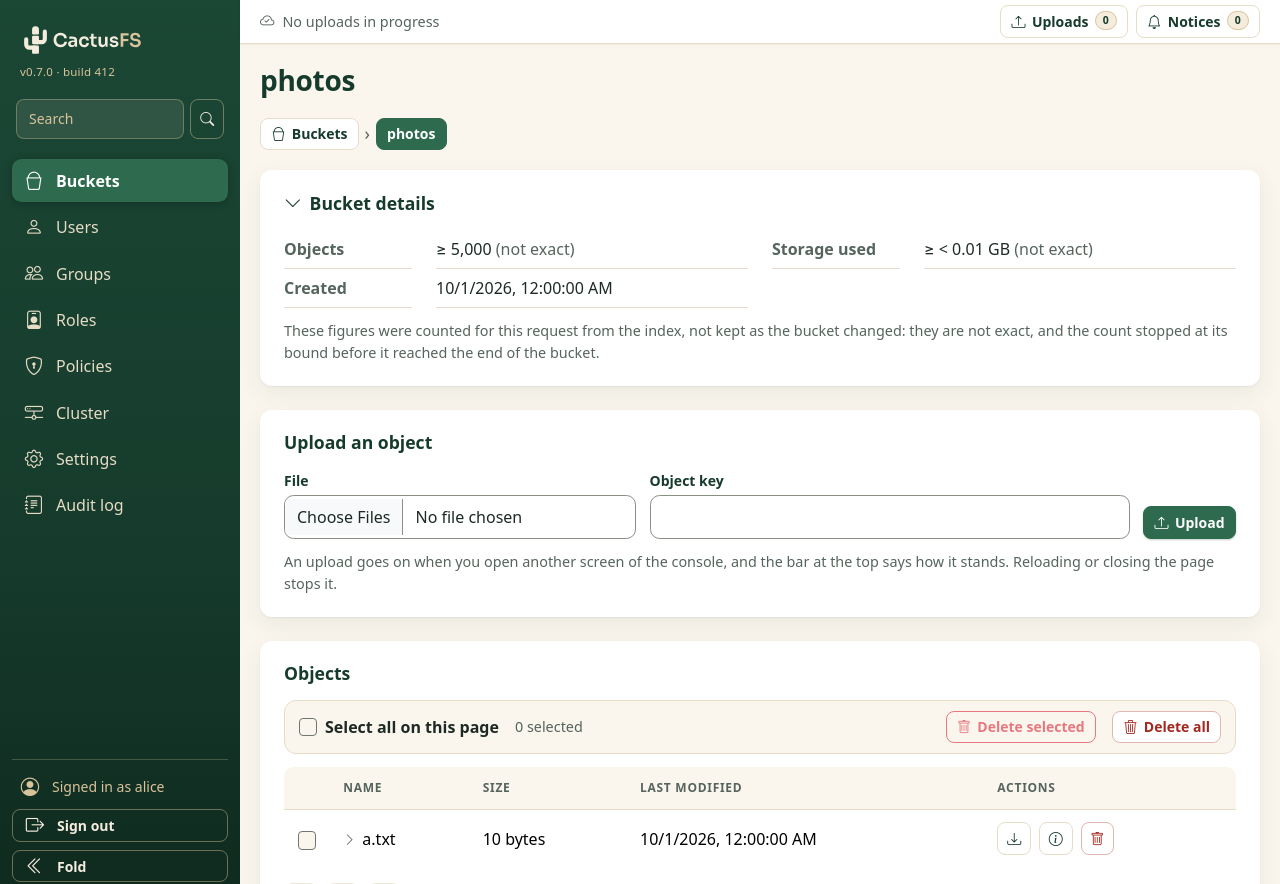
Test case: "Delete all" › says what will happen, in words that cannot be mistaken, and asks for the password and nothing else
The width and height of the screenshot is (1280, 884).
Expected: the heading "photos" is shown, [260,61,355,99]
Step 1. Click the button "Delete all" → (1167, 727), box [1112,711,1221,743]
(page scrolled)
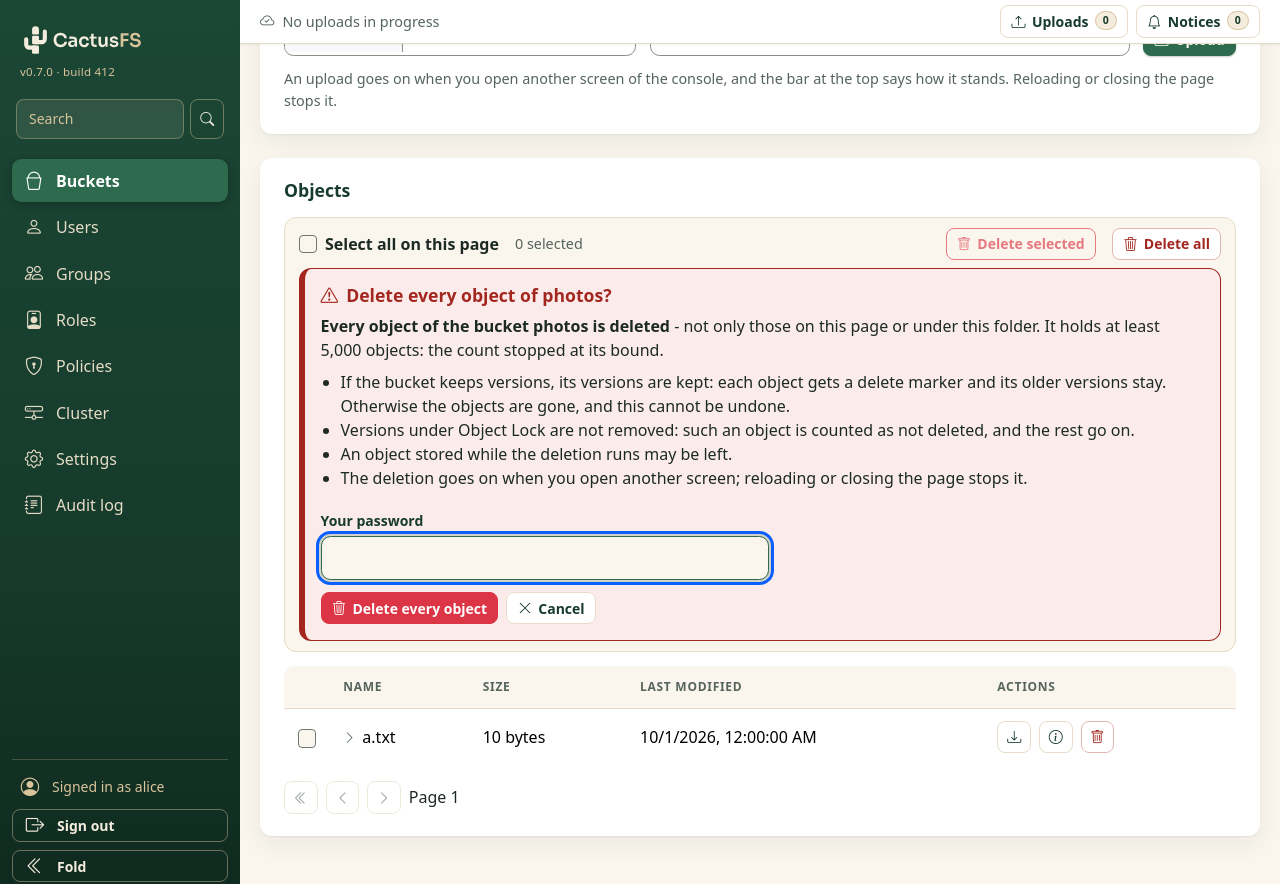
Now the dialog "Delete every object of " shows "Every object of the bucket photos is deleted", box [299,268,1221,641]
Now the dialog "Delete every object of " shows "not only those on this page or under this folder", box [670,315,1044,337]
Now the dialog "Delete every object of " shows "It holds at least 5,000 objects", box [321,315,1160,361]
Step 2. Click the button "Cancel" → (551, 608), box [506,592,596,624]
(page scrolled)
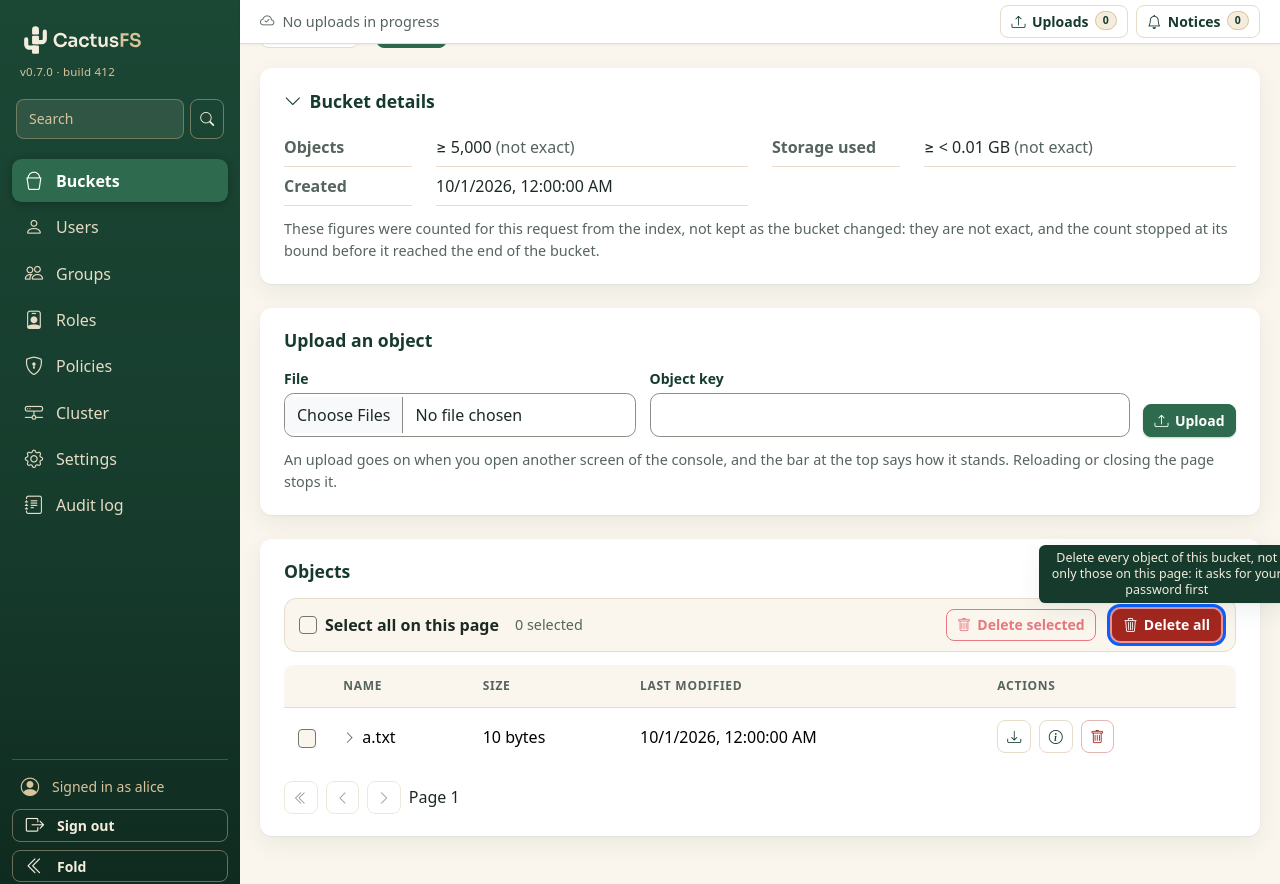
Now the dialog is gone
